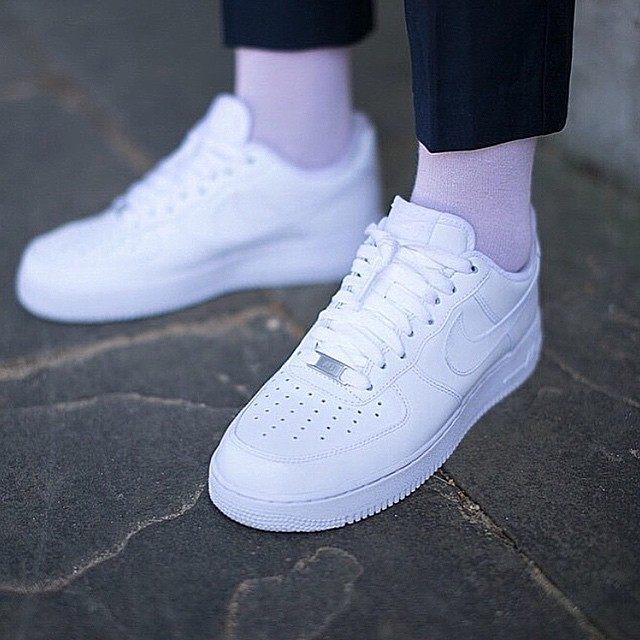sneaker: (187, 113, 578, 555), (4, 15, 399, 338)
